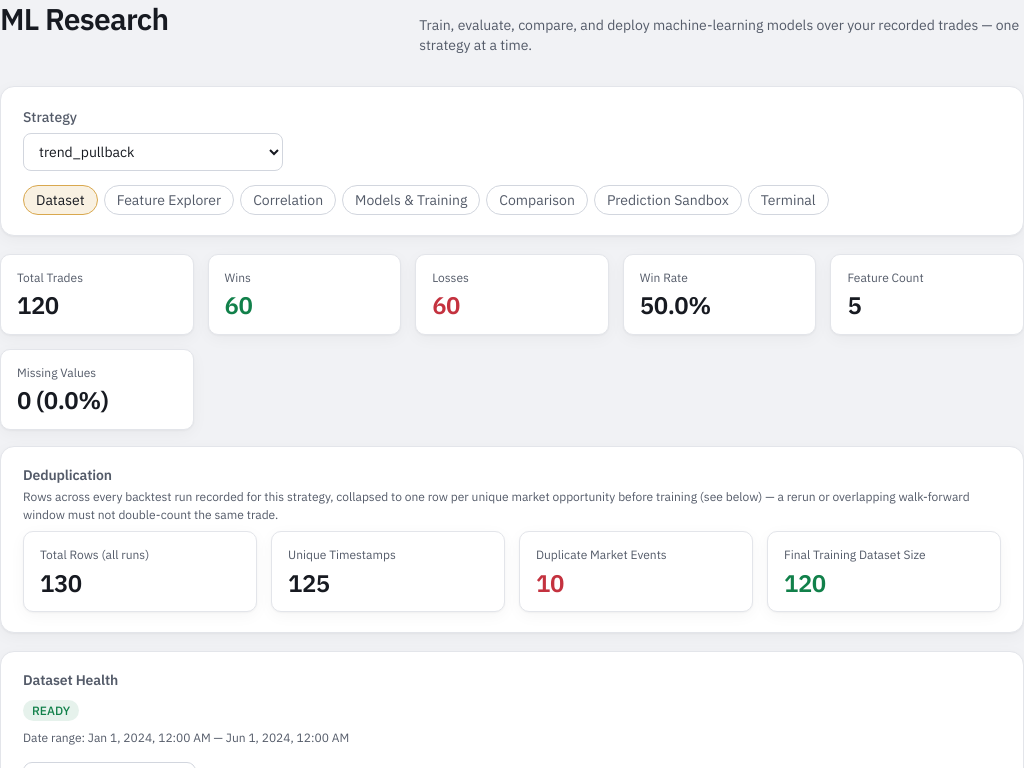
MlResearch › Comparison tab: highlights the best-accuracy model
Expected: the text "READY" is shown, [23,700,79,721]
Click the button "Comparison" at (537, 200), box [486,185,588,215]
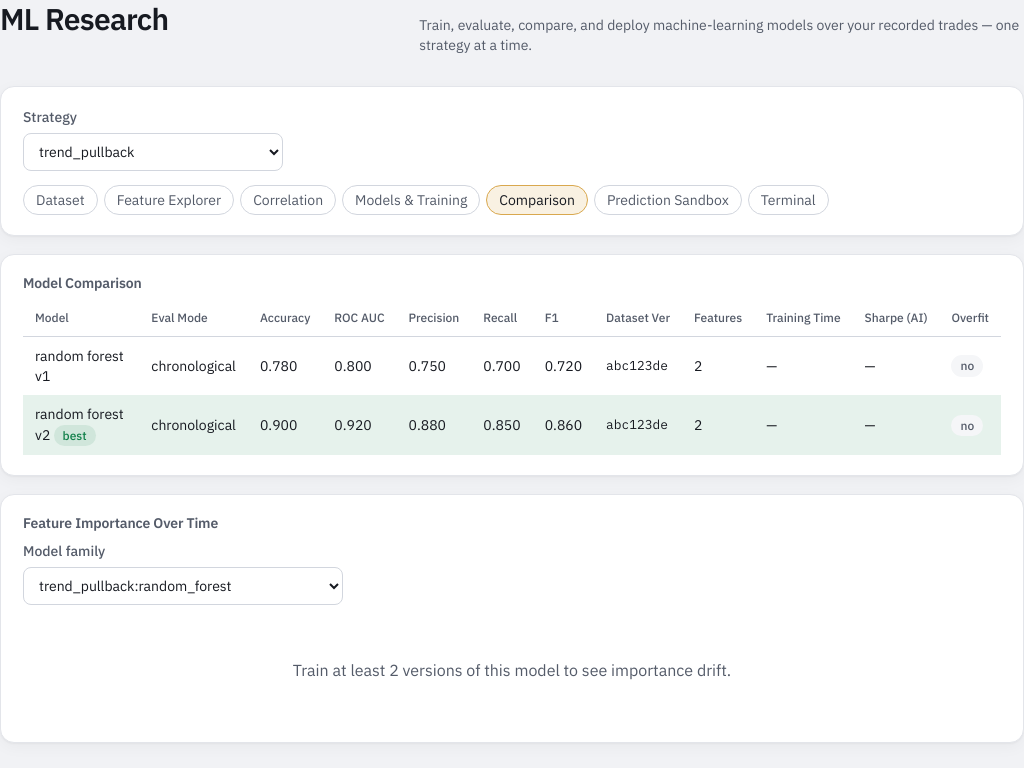
Now the text "best" is shown, box [54,425,96,446]
